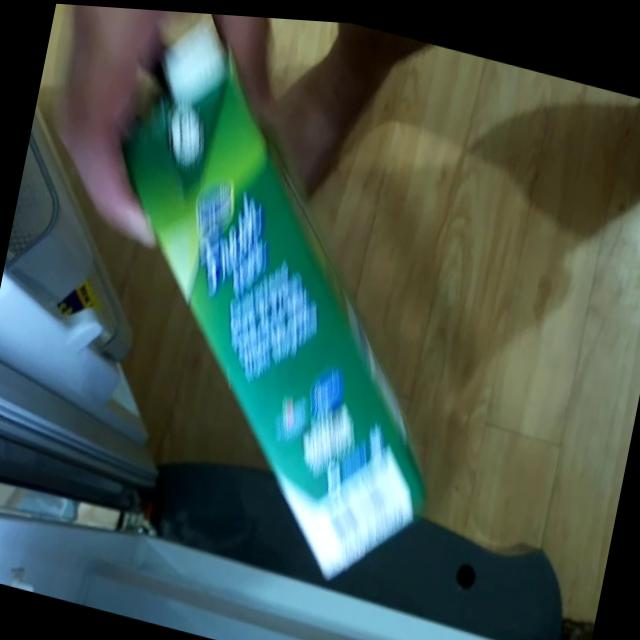milk: (40, 10, 508, 594)
